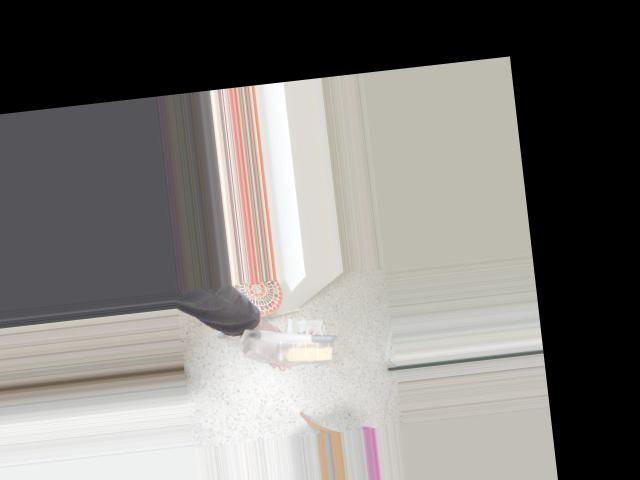cheese: (242, 320, 337, 372)
